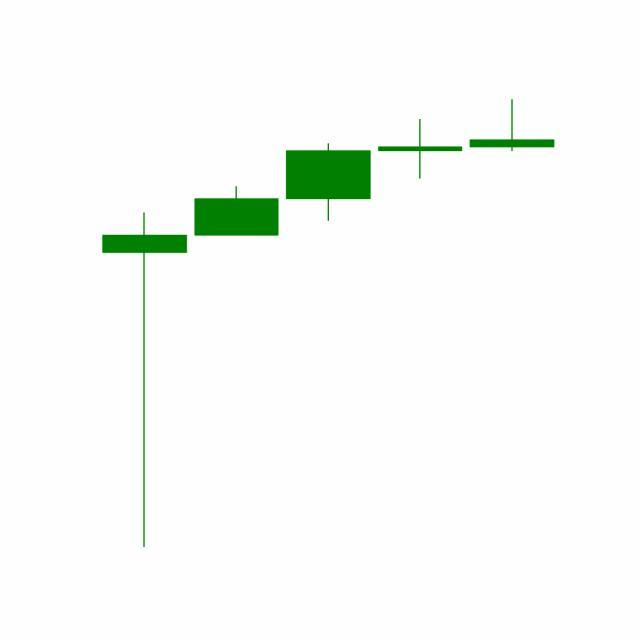Spinning Top: (374, 118, 468, 180)
